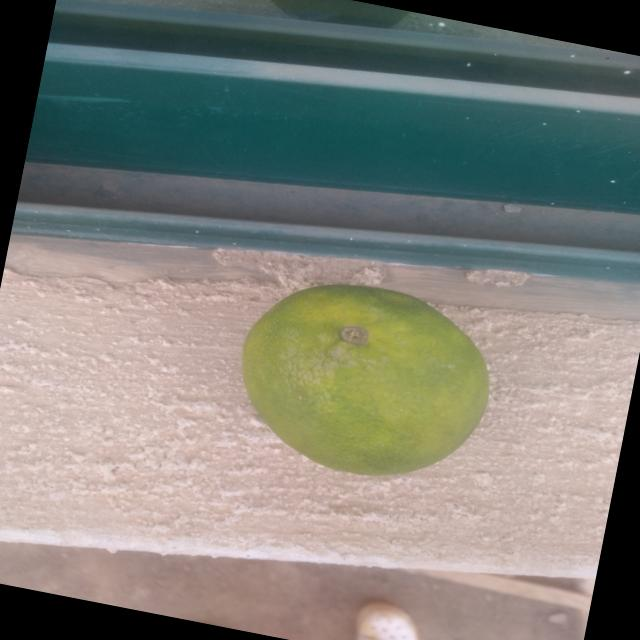Ripe orange: (188, 247, 506, 520)
